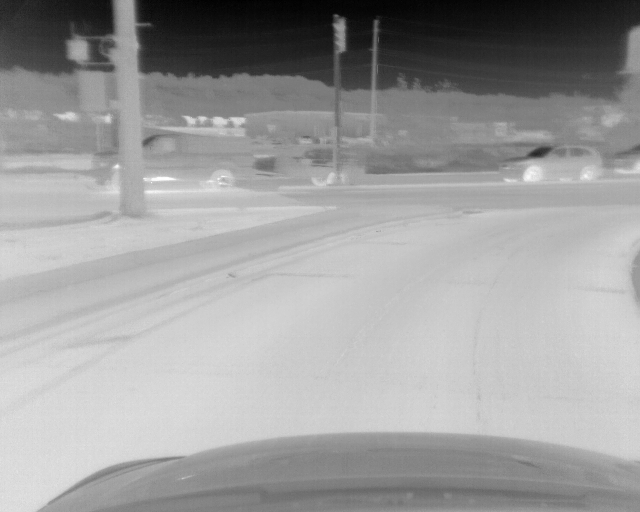car: (91, 126, 369, 191), (498, 145, 602, 183), (612, 145, 640, 174)
